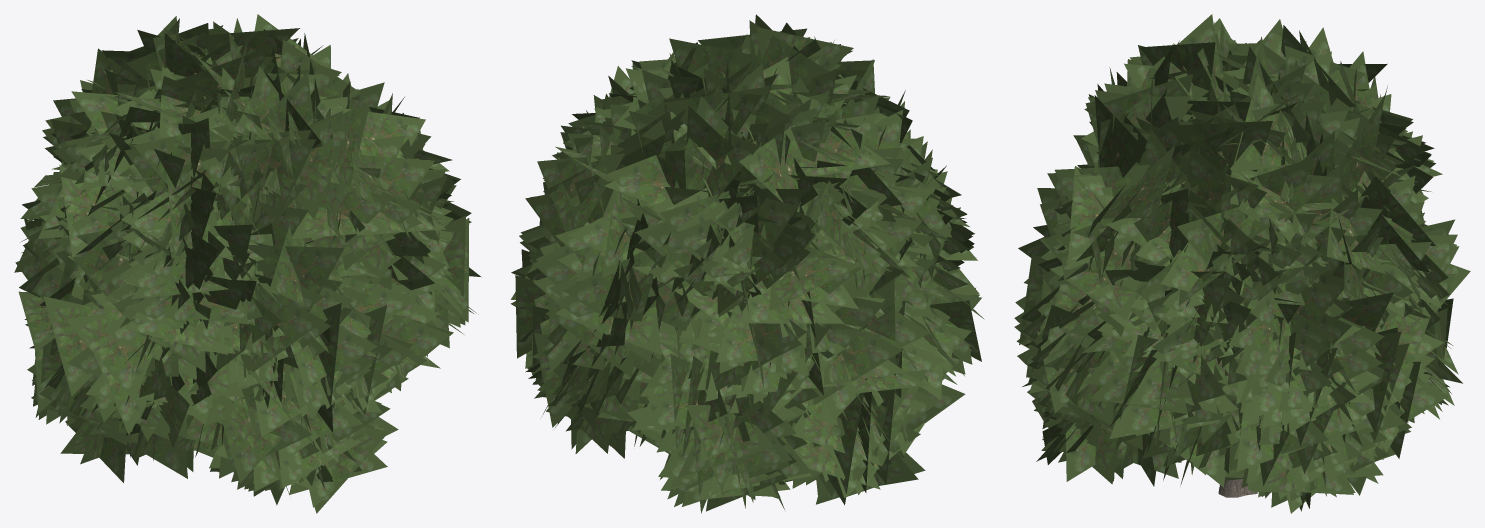
Rendered from Quercus_Rubra_Spring_Adult.glb.
3 views of the same model, side by side, from view 1: azimuth 30°, elevation 25°; view 2: azimuth 150°, elevation 25°; view 3: azimuth 270°, elevation 25° (orthographic). The views are drawn at different scales.
Visible parts, largest first — view 1: Quercus_Rubra_Spring_Adult__LOD3; view 2: Quercus_Rubra_Spring_Adult__LOD3; view 3: Quercus_Rubra_Spring_Adult__LOD3.
Part boxes in pixels (x1=…): Quercus_Rubra_Spring_Adult__LOD3: x1=14, y1=14, x2=480, y2=513; Quercus_Rubra_Spring_Adult__LOD3: x1=510, y1=14, x2=984, y2=513; Quercus_Rubra_Spring_Adult__LOD3: x1=1014, y1=14, x2=1470, y2=513.
Bounding box in the file's own units: 20.24 × 21.15 × 19.45.
2 materials, 2 textured.
